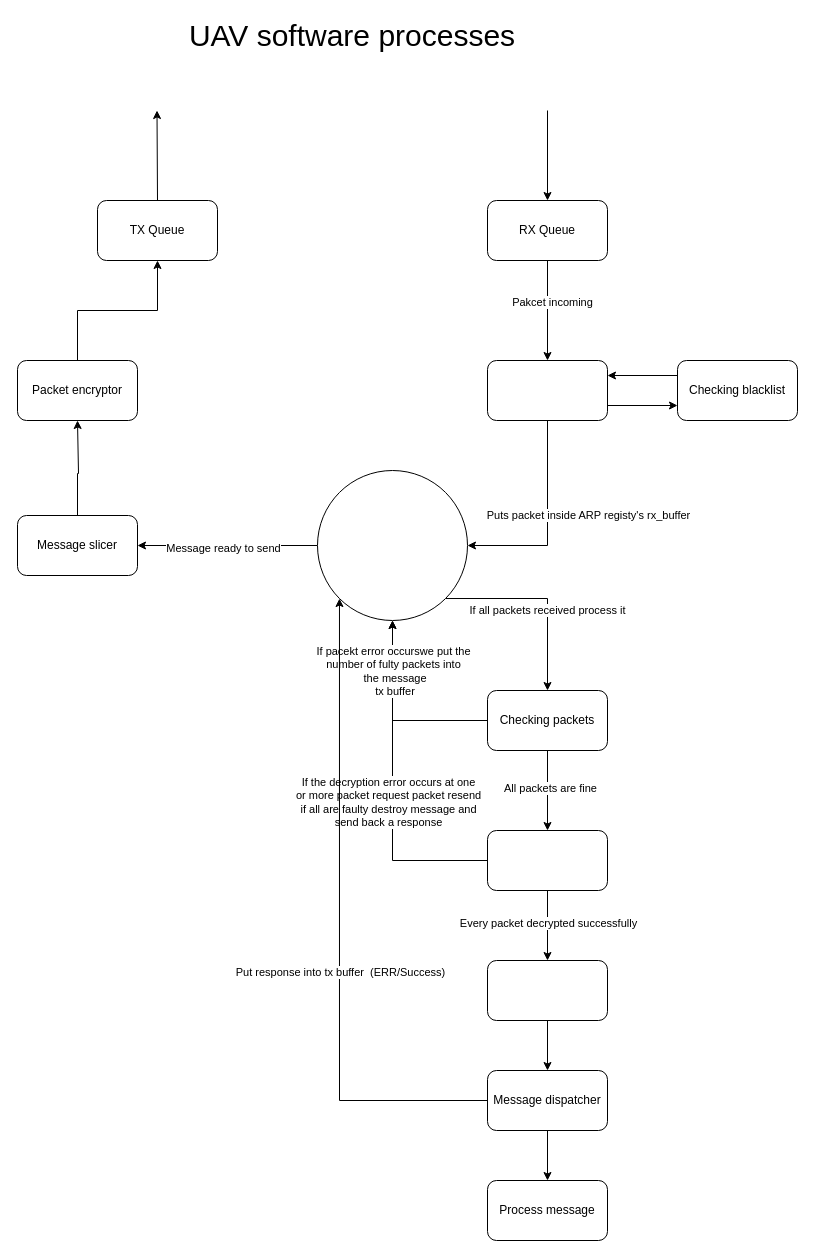
Some shapes in this 815 by 1258 pixel diagram are drawn without their labels. The shapes that lost their labels are listed below. From the top down, each one's centre as x and y in pixels, then its label:
[547,390]: Packet Parser
[392,545]: Arp Table
[547,860]: Packet decryptor
[547,990]: Construct message
